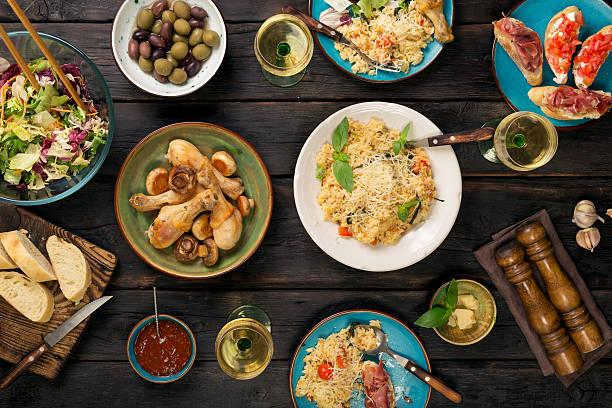Braised Crucian Carp: (292, 101, 457, 272), (113, 122, 270, 277), (1, 29, 114, 202), (490, 0, 609, 131), (287, 307, 428, 405), (307, 0, 451, 82), (110, 1, 226, 97)
